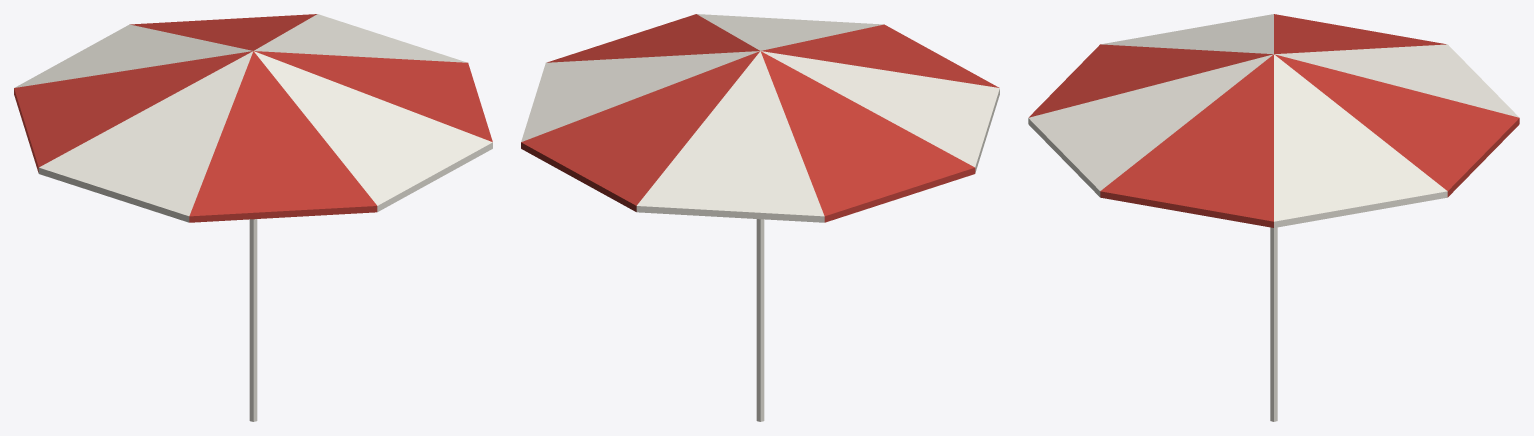
The model's file is umbrella.glb.
3 renders of one model, left to right at view 1: azimuth 30°, elevation 25°; view 2: azimuth 150°, elevation 25°; view 3: azimuth 270°, elevation 25°, orthographic.
Parts seen in each view (by area): view 1: umbrella_Body; view 2: umbrella_Body; view 3: umbrella_Body.
Part boxes in pixels (x1,y1,x2,y2): umbrella_Body: (14, 14, 492, 421); umbrella_Body: (521, 14, 999, 421); umbrella_Body: (1028, 14, 1519, 421).
Bounding box in the file's own units: 2.8 × 2.3 × 2.8.
